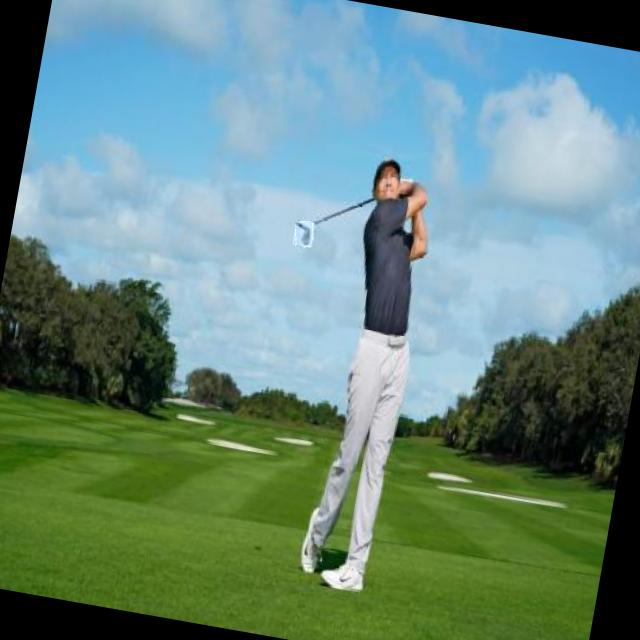club head: (292, 220, 315, 248)
